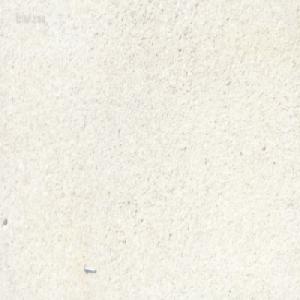Nail: (82, 263, 96, 273)
